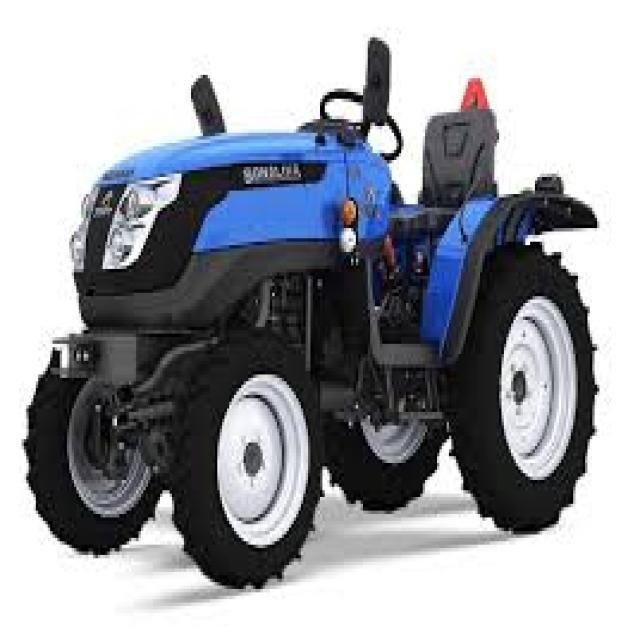Tratores - v5 YOLO V8L 2024-11-13: (12, 25, 610, 599)
